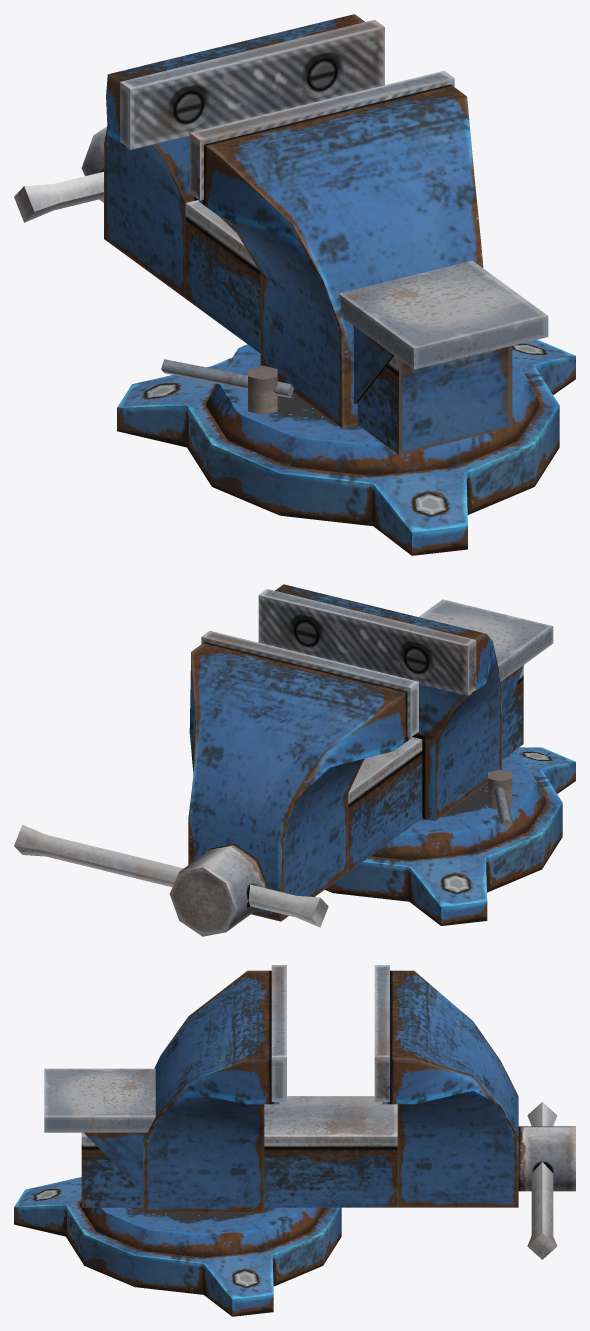
Rendered from ITEM_vise.FBX.
3 renders of one model, top to bottom at view 1: azimuth 30°, elevation 25°; view 2: azimuth 150°, elevation 25°; view 3: azimuth 270°, elevation 25°, orthographic. The views are drawn at different scales.
Visible parts, largest first — view 1: ITEM_vise, ITEM_vise_slide; view 2: ITEM_vise_slide, ITEM_vise; view 3: ITEM_vise, ITEM_vise_slide.
Boxes of the visible parts, x1=… form: ITEM_vise: x1=117, y1=70, x2=575, y2=555; ITEM_vise_slide: x1=14, y1=14, x2=512, y2=454; ITEM_vise_slide: x1=14, y1=631, x2=523, y2=936; ITEM_vise: x1=258, y1=584, x2=575, y2=925; ITEM_vise: x1=14, y1=965, x2=341, y2=1316; ITEM_vise_slide: x1=81, y1=965, x2=575, y2=1259.
Bounding box in the file's own units: 31.07 × 21.65 × 48.9.
